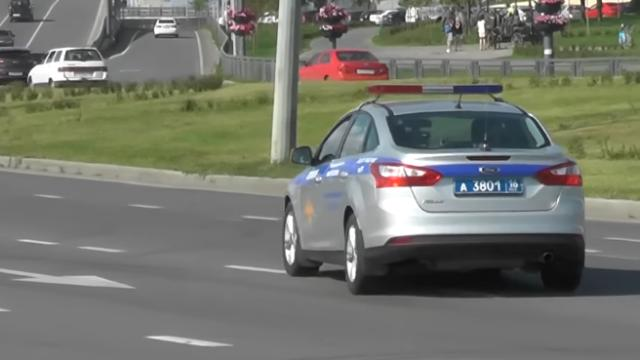non emergency car: (28, 47, 108, 93), (298, 47, 388, 84), (2, 46, 35, 86), (8, 1, 34, 23), (155, 18, 181, 38)
police car: (282, 83, 586, 294)
